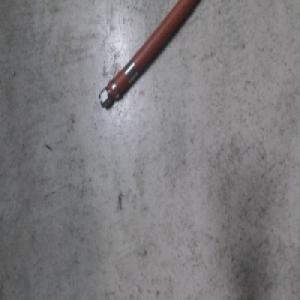Hose: (97, 0, 201, 110)
